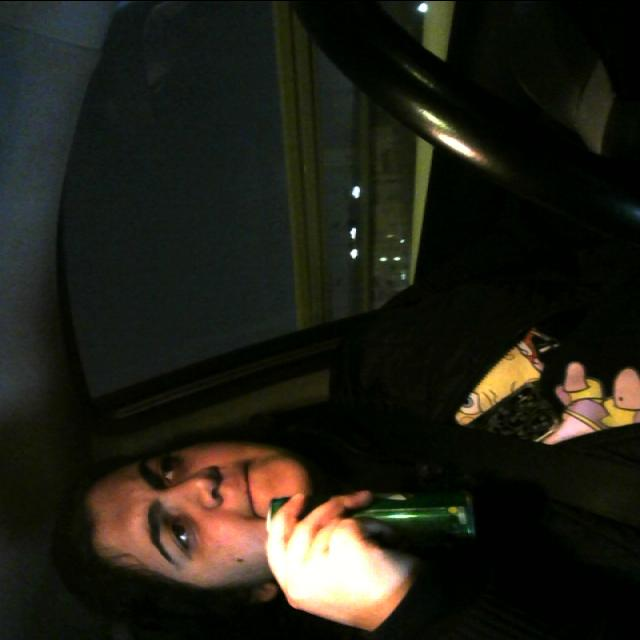drinking: (262, 488, 482, 568)
